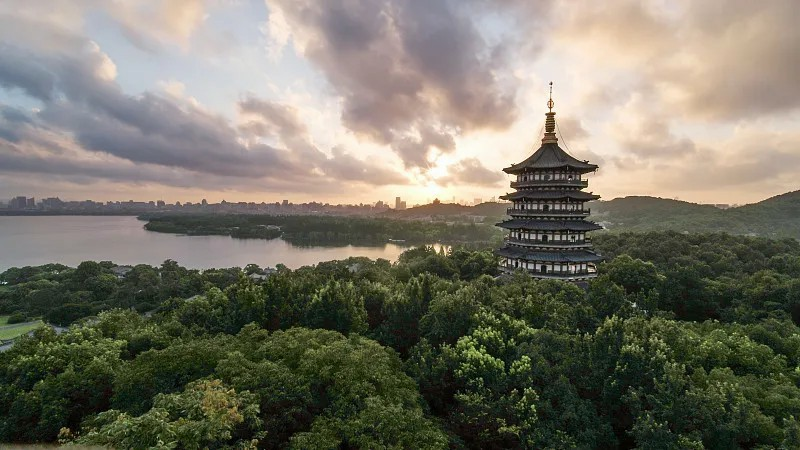Leifeng: (492, 81, 606, 285)
